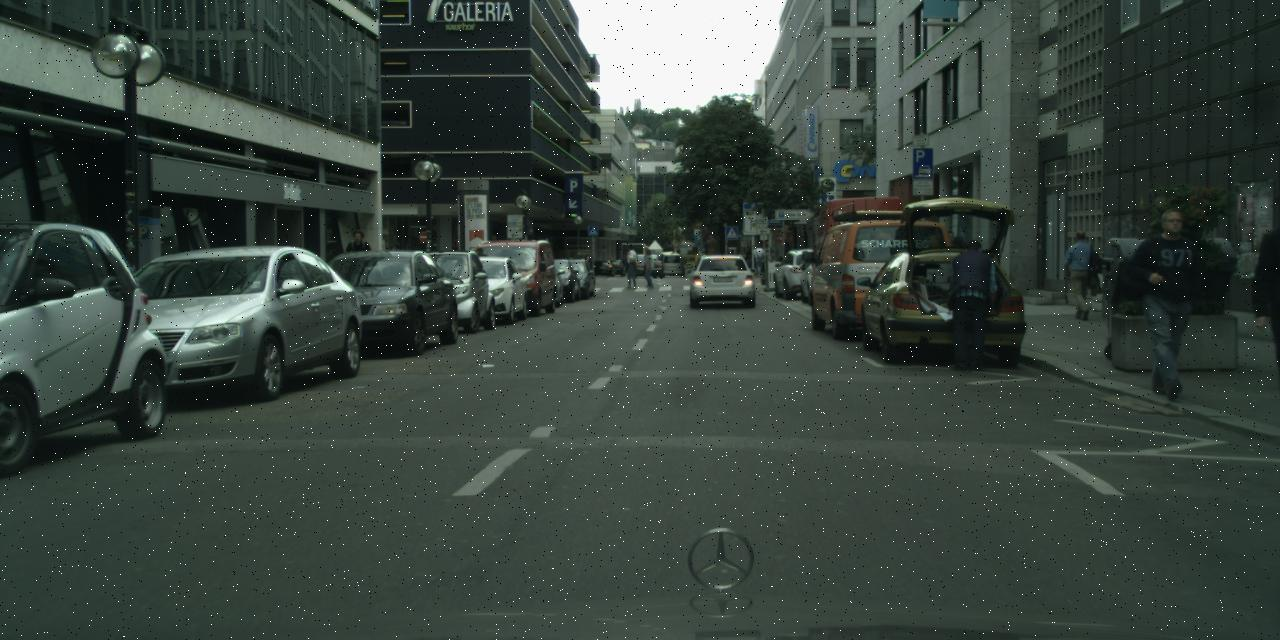ped: (1132, 208, 1208, 392), (944, 240, 997, 370), (1063, 230, 1099, 317), (347, 230, 372, 294), (621, 244, 639, 288), (640, 245, 656, 287), (388, 243, 403, 283), (750, 243, 764, 276), (744, 246, 754, 272), (582, 250, 592, 272), (573, 251, 582, 273)
